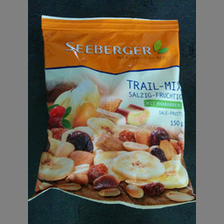nuts: (33, 13, 195, 211)
